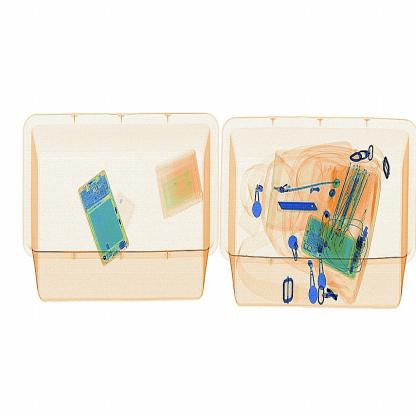pliers: (271, 192, 321, 222)
